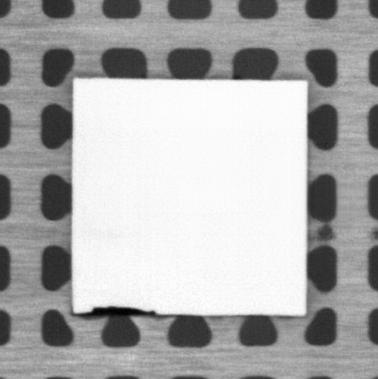DIE_BROKEN: (77, 304, 159, 317)
